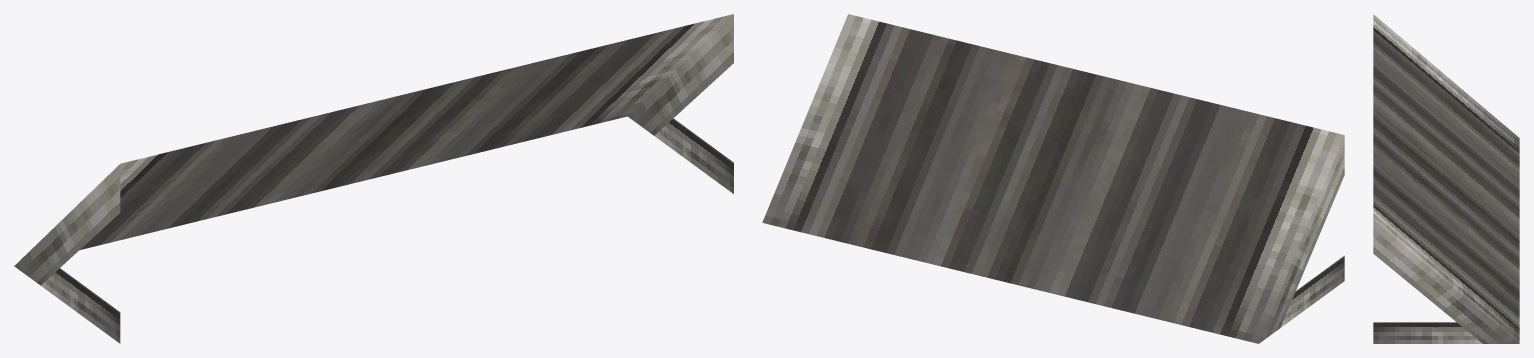
The model's file is detail-awning-wide.glb.
3 views of the same model, side by side, from view 1: azimuth 30°, elevation 25°; view 2: azimuth 150°, elevation 25°; view 3: azimuth 270°, elevation 25° (orthographic). The views are drawn at different scales.
Visible parts, largest first — view 1: detail-awning-wide; view 2: detail-awning-wide; view 3: detail-awning-wide.
Part boxes in pixels (x1,y1,x2,y2): detail-awning-wide: (14,14,733,343); detail-awning-wide: (762,14,1344,343); detail-awning-wide: (1373,14,1519,343).
Size of the model in its own units: 1 by 0.2808 by 0.3.
Materials: 1 (1 with a texture image).
